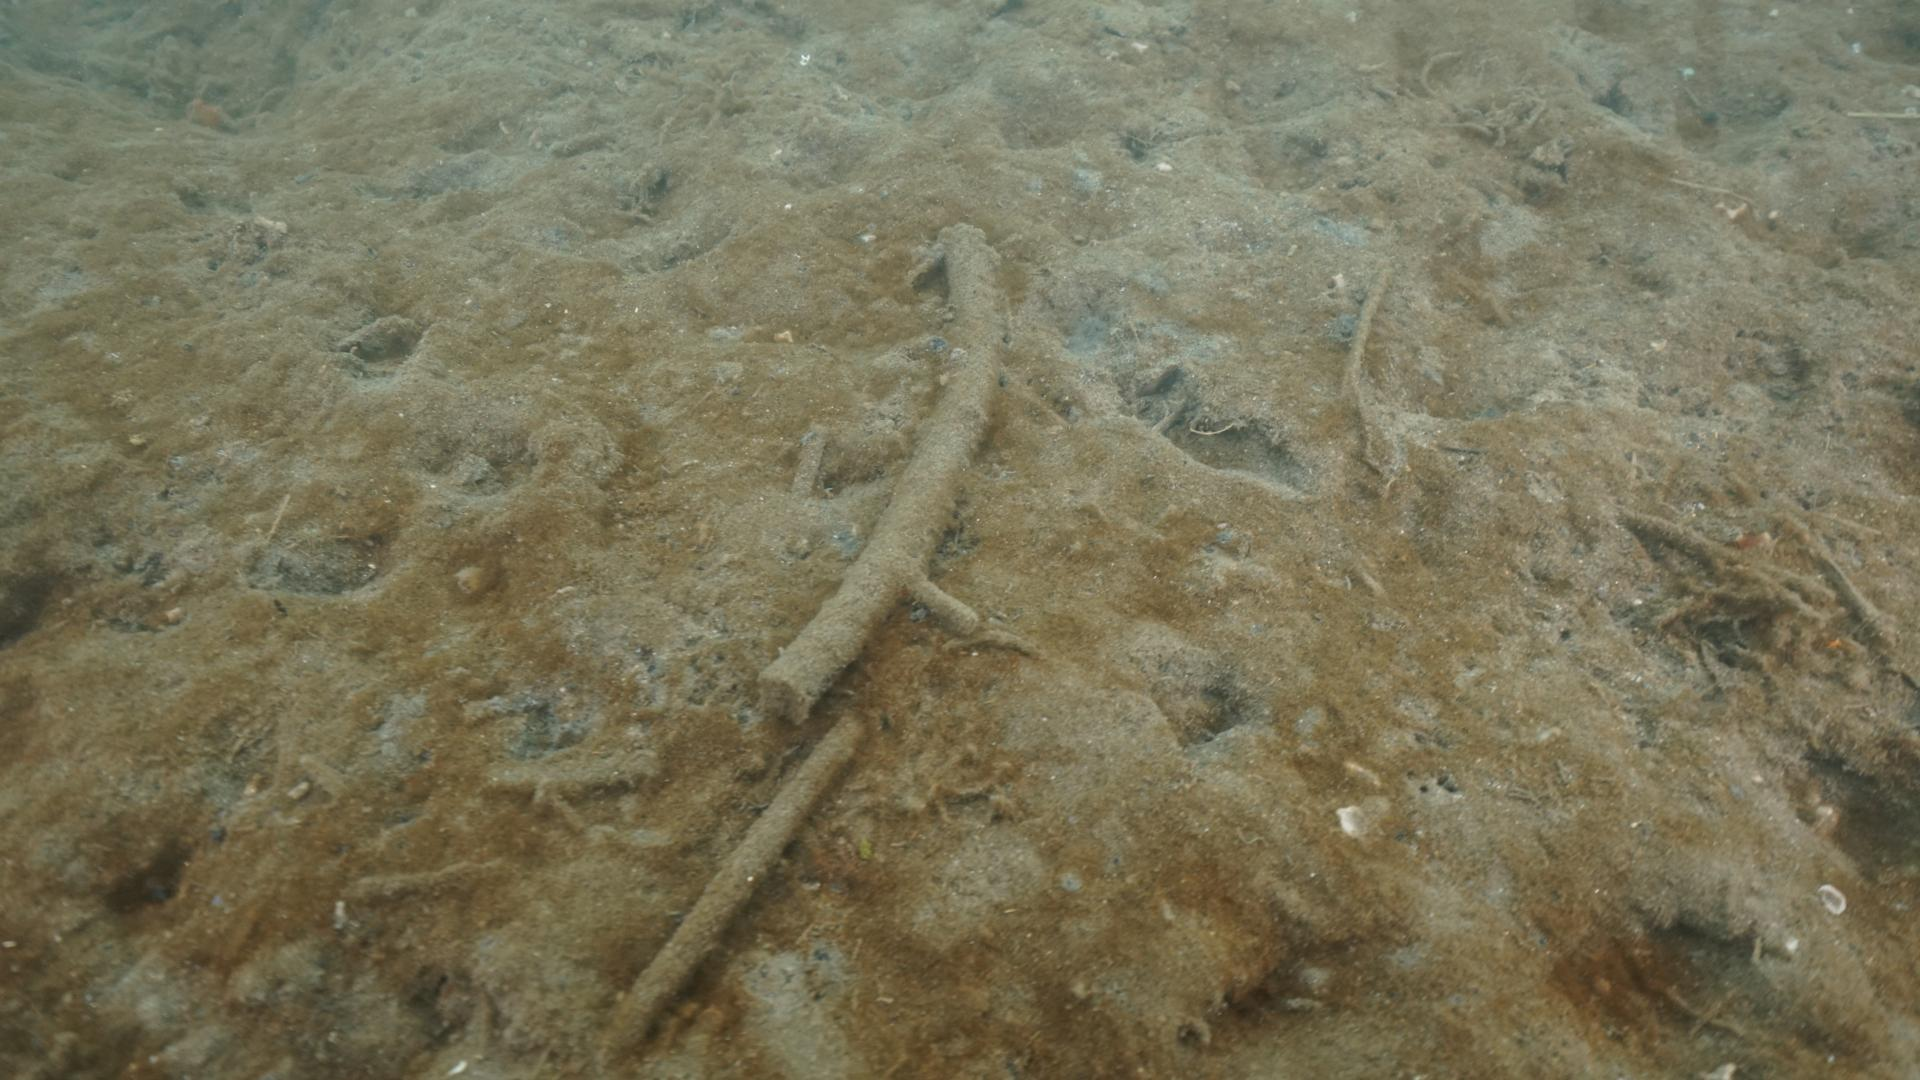wood: (753, 220, 1002, 723), (589, 712, 862, 1077)
